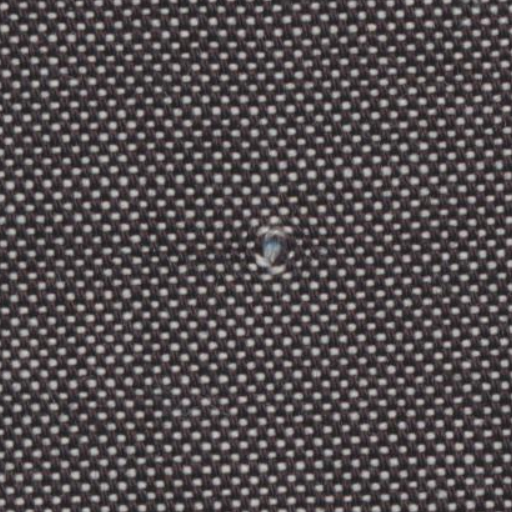PoDong: (236, 218, 316, 294)
